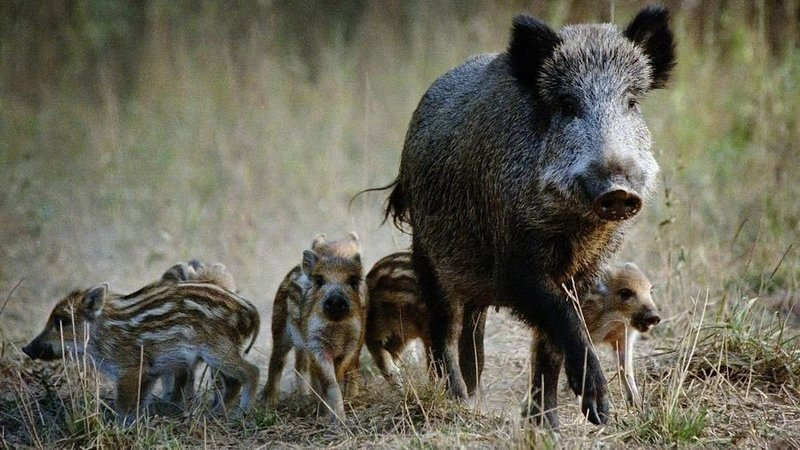boar: (379, 4, 688, 430), (14, 273, 262, 425), (260, 219, 372, 430)
